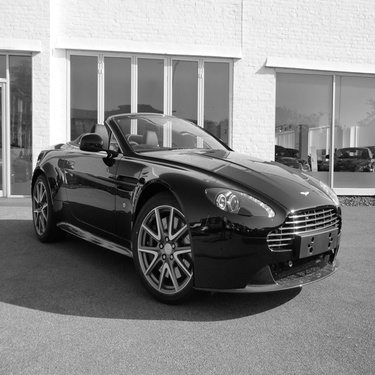car: (26, 98, 349, 310), (316, 142, 374, 177)
